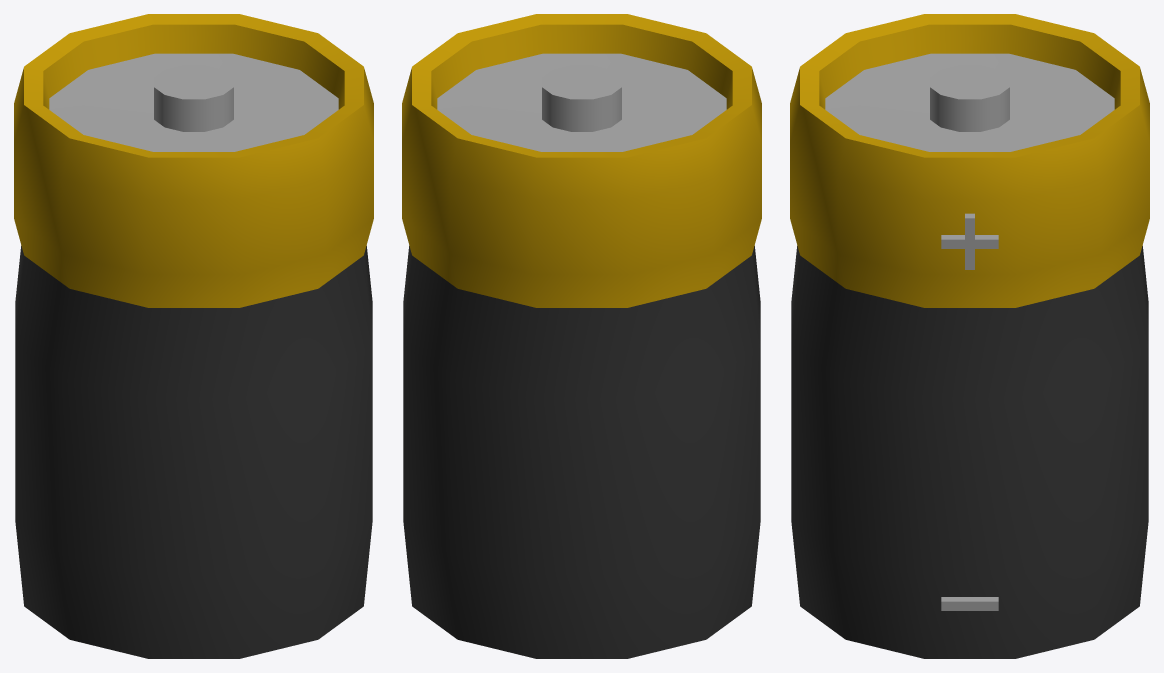
Rendered from LaserPickup.fbx.
3 renders of one model, left to right at view 1: azimuth 30°, elevation 25°; view 2: azimuth 150°, elevation 25°; view 3: azimuth 270°, elevation 25°, orthographic.
Visible parts, largest first — view 1: pCylinder2; view 2: pCylinder2; view 3: pCylinder2.
Part boxes in pixels (left/top/right/bottom): pCylinder2: left=14, top=14, right=373, bottom=658; pCylinder2: left=402, top=14, right=761, bottom=658; pCylinder2: left=790, top=14, right=1149, bottom=658.
Bounding box in the file's own units: 52.64 × 79.16 × 51.14.
